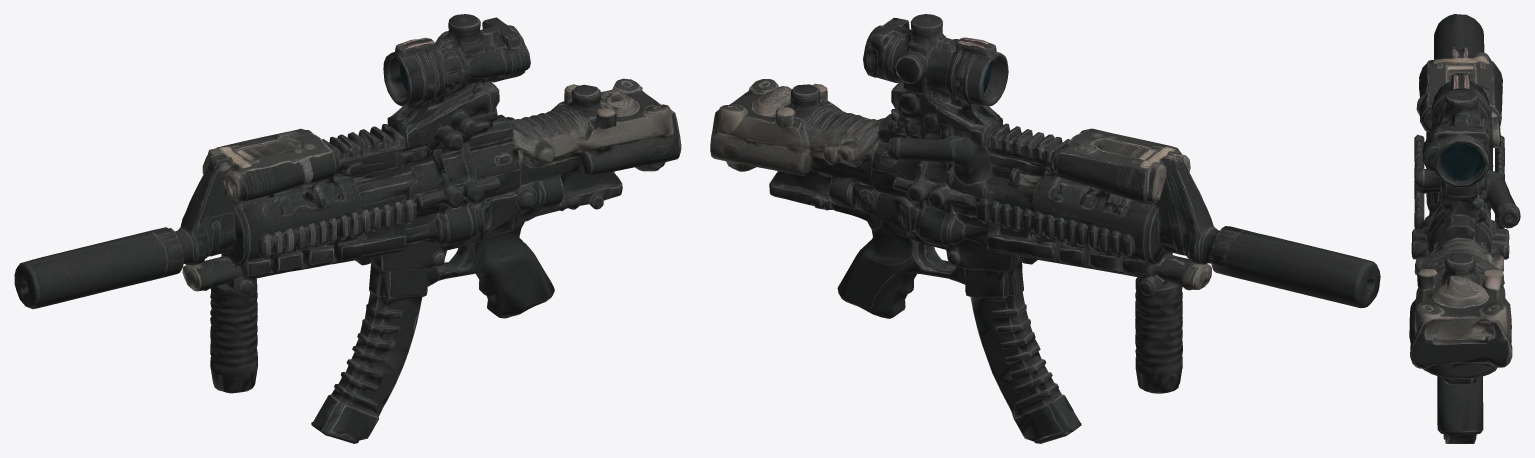
The model's file is rifle.glb.
The picture shows the model from 3 angles, left to right: view 1: azimuth 30°, elevation 25°; view 2: azimuth 150°, elevation 25°; view 3: azimuth 270°, elevation 25°; orthographic projection. The views are drawn at different scales.
Size of the model in its own units: 1.9 by 1.12 by 0.2783.
Materials: 1 (1 with a texture image).
